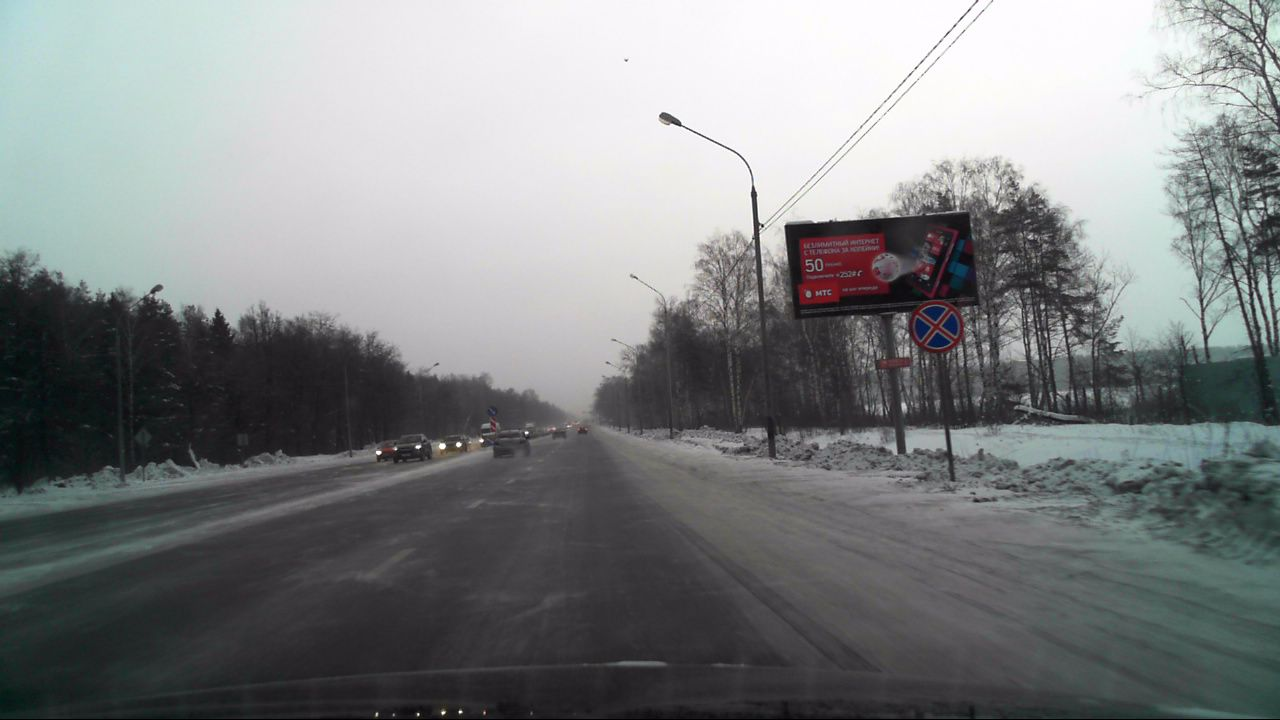No Parking: (911, 300, 964, 352)
